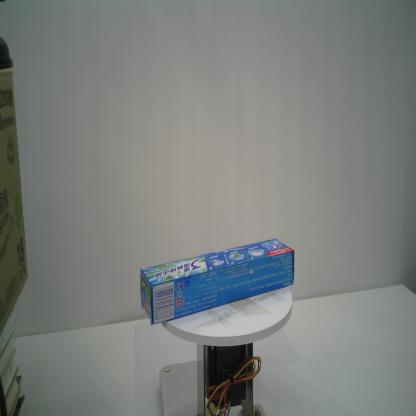Personal Hygiene: (139, 237, 297, 325)
